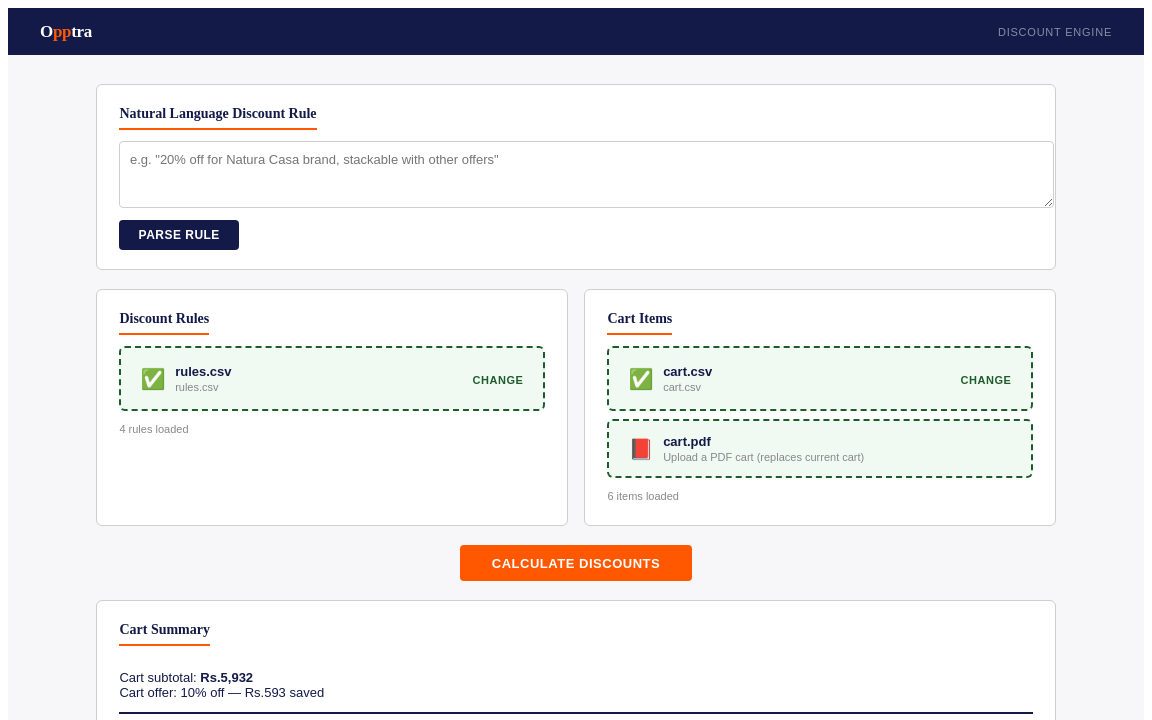
Test: integration › NL discard does not add rule or change totals
Earlier steps of the test are not shown.
Expected: the text "4 rules loaded" is shown, [119, 423, 188, 435]
Replace the text in the text box with placeholder "e.g." with "7% off Natura Casa stackable". click: (587, 174)
box: [119, 141, 1054, 208]
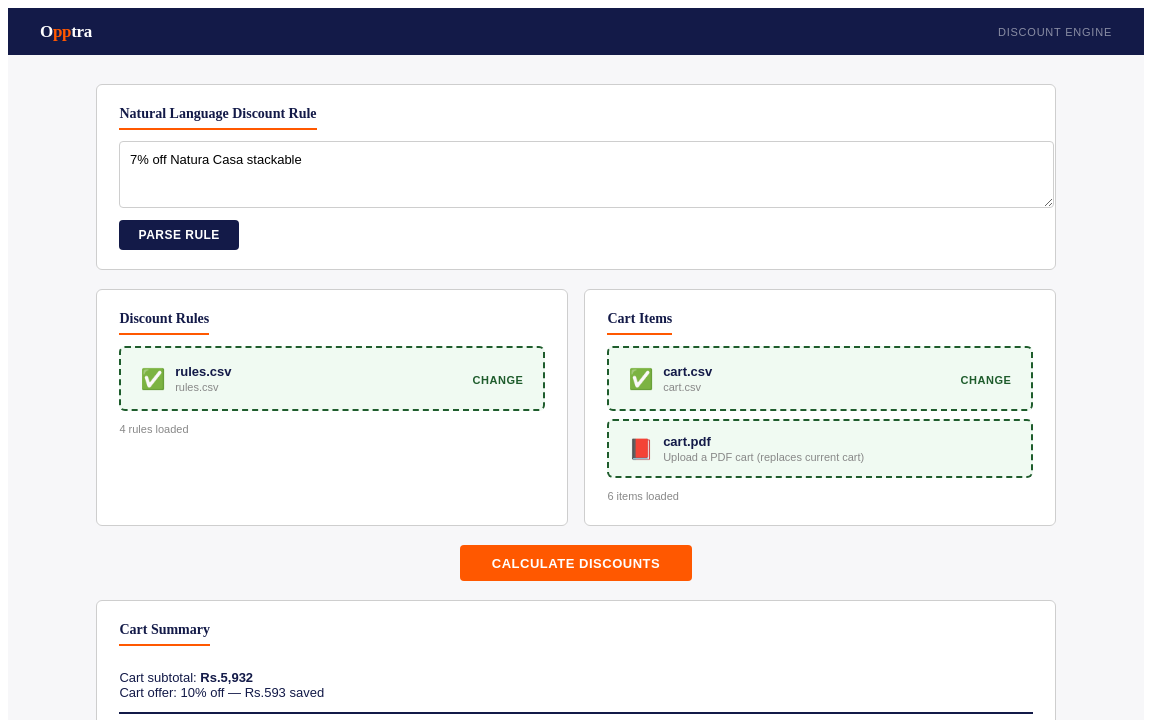
Click the button "Parse Rule". click: (179, 234)
box: [119, 220, 239, 250]
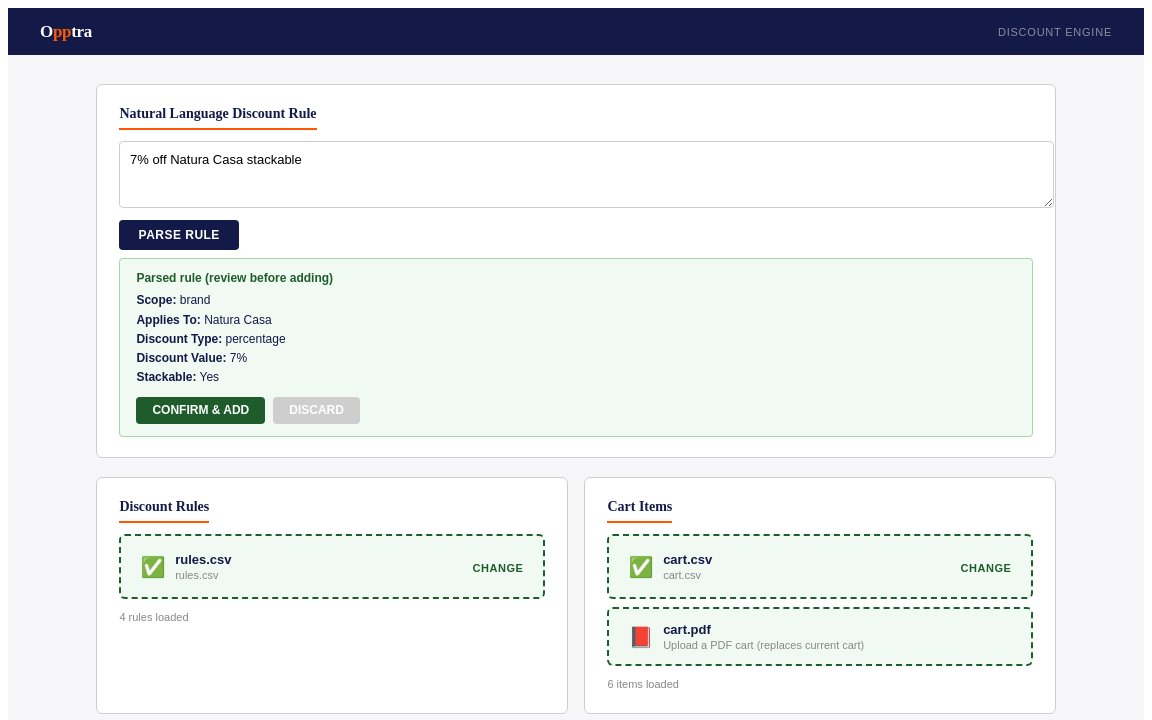
Expected: the button "Discard" is shown
Click the button "Discard". click: (317, 410)
box: [273, 397, 360, 424]
(page scrolled)
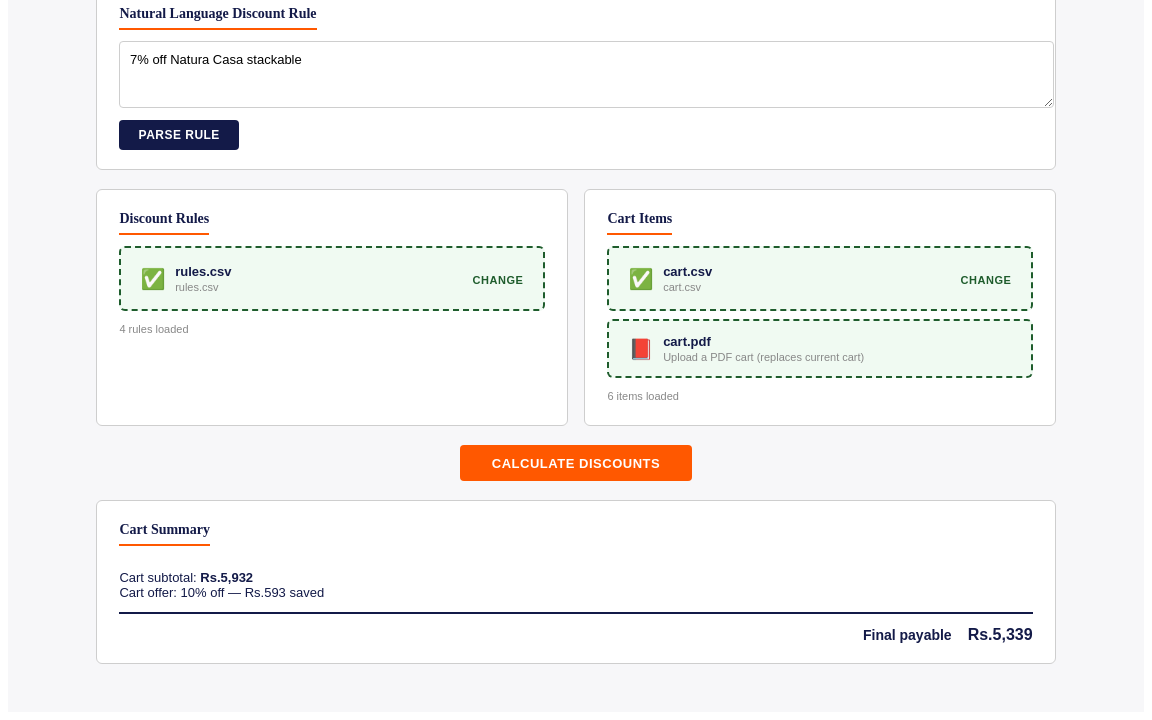
Expected: the text "4 rules loaded" is shown, [119, 323, 188, 335]
Expected: the button "Confirm & Add" is gone
